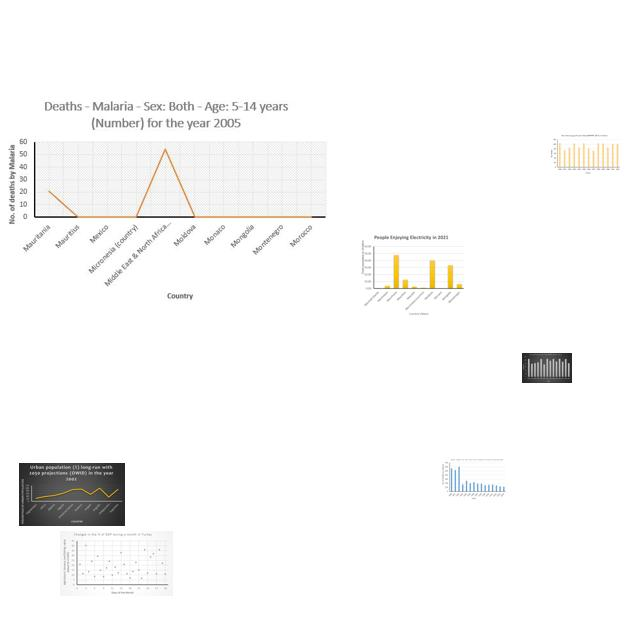Graph: (3, 95, 332, 301), (356, 234, 467, 319), (60, 531, 173, 596), (19, 463, 125, 526), (550, 132, 622, 175), (441, 458, 507, 500), (522, 353, 572, 383)
